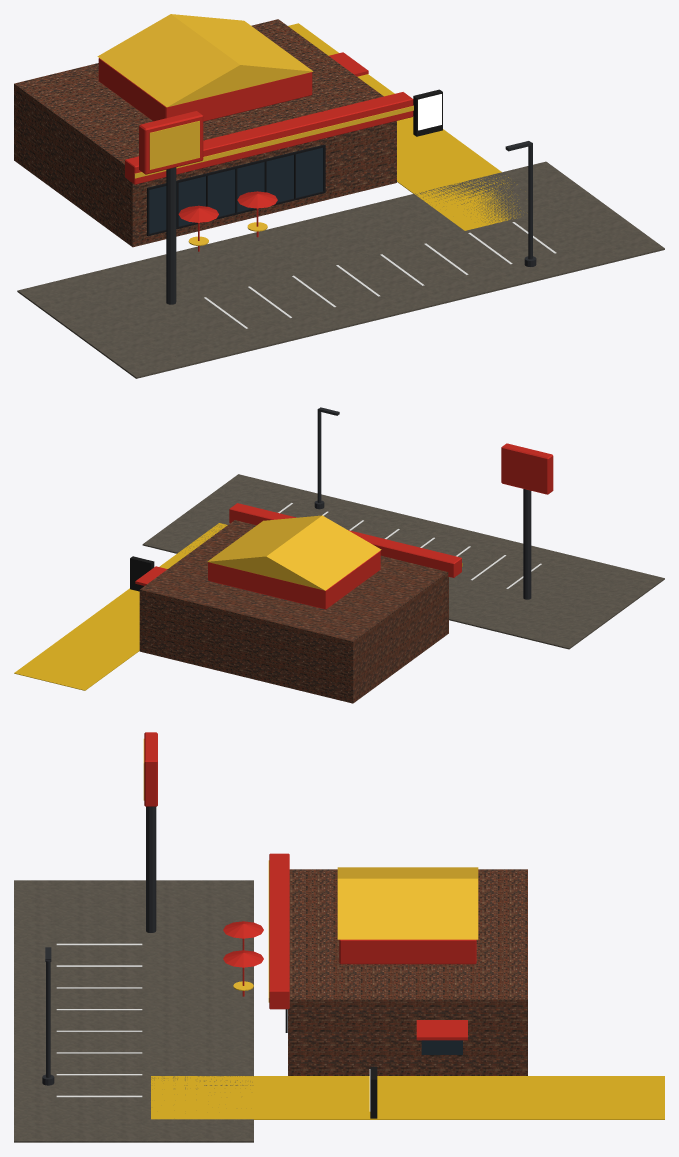
The model's file is OT_FastFood_A.glb.
3 renders of one model, top to bottom at view 1: azimuth 30°, elevation 25°; view 2: azimuth 150°, elevation 25°; view 3: azimuth 270°, elevation 25°, orthographic. The views are drawn at different scales.
Visible parts, largest first — view 1: OT_FastFood_A_Pavement, OT_FastFood_A_Brick, OT_FastFood_A_FFYellow__f6c22c, OT_FastFood_A_FFRed__d0281e, OT_FastFood_A_LaneYellow__e8b81e, OT_FastFood_A_Glass__22303a, OT_FastFood_A_Frame__18191c, OT_FastFood_A_PoleDark__2a2c30, OT_FastFood_A_PaintWhite__f0f0ee, OT_FastFood_A_PoleDark__2a2c30.001, OT_FastFood_A_InteriorWarm__ffdca8; view 2: OT_FastFood_A_Brick, OT_FastFood_A_Pavement, OT_FastFood_A_FFRed__d0281e, OT_FastFood_A_FFYellow__f6c22c, OT_FastFood_A_LaneYellow__e8b81e, OT_FastFood_A_PoleDark__2a2c30, OT_FastFood_A_PoleDark__2a2c30.001, OT_FastFood_A_MenuBoard__1a1a1a; view 3: OT_FastFood_A_Pavement, OT_FastFood_A_Brick, OT_FastFood_A_LaneYellow__e8b81e, OT_FastFood_A_FFYellow__f6c22c, OT_FastFood_A_FFRed__d0281e, OT_FastFood_A_PaintWhite__f0f0ee, OT_FastFood_A_PoleDark__2a2c30, OT_FastFood_A_PoleDark__2a2c30.001, OT_FastFood_A_Glass__22303a.
Boxes of the visible parts, x1,y1,x2,y2 form: OT_FastFood_A_Pavement: (17, 161, 664, 378); OT_FastFood_A_Brick: (14, 19, 396, 247); OT_FastFood_A_FFYellow__f6c22c: (97, 14, 413, 245); OT_FastFood_A_FFRed__d0281e: (98, 52, 413, 251); OT_FastFood_A_LaneYellow__e8b81e: (288, 23, 520, 230); OT_FastFood_A_Glass__22303a: (149, 147, 323, 233); OT_FastFood_A_Frame__18191c: (147, 144, 325, 236); OT_FastFood_A_PoleDark__2a2c30: (166, 167, 176, 304); OT_FastFood_A_PaintWhite__f0f0ee: (204, 222, 556, 328); OT_FastFood_A_PoleDark__2a2c30.001: (505, 141, 536, 266); OT_FastFood_A_InteriorWarm__ffdca8: (418, 94, 441, 130); OT_FastFood_A_Brick: (139, 520, 448, 703); OT_FastFood_A_Pavement: (142, 474, 664, 649); OT_FastFood_A_FFRed__d0281e: (135, 443, 553, 609); OT_FastFood_A_FFYellow__f6c22c: (207, 515, 462, 590); OT_FastFood_A_LaneYellow__e8b81e: (14, 523, 227, 690); OT_FastFood_A_PoleDark__2a2c30: (523, 489, 531, 599); OT_FastFood_A_PoleDark__2a2c30.001: (314, 407, 339, 509); OT_FastFood_A_MenuBoard__1a1a1a: (130, 556, 154, 591); OT_FastFood_A_Pavement: (14, 880, 253, 1142); OT_FastFood_A_Brick: (288, 869, 527, 1075); OT_FastFood_A_LaneYellow__e8b81e: (151, 1076, 664, 1119); OT_FastFood_A_FFYellow__f6c22c: (143, 739, 478, 1002); OT_FastFood_A_FFRed__d0281e: (144, 732, 476, 1040); OT_FastFood_A_PaintWhite__f0f0ee: (56, 943, 142, 1097); OT_FastFood_A_PoleDark__2a2c30: (146, 806, 156, 932); OT_FastFood_A_PoleDark__2a2c30.001: (42, 947, 54, 1085); OT_FastFood_A_Glass__22303a: (421, 1040, 462, 1054).
Size of the model in its own units: 36 by 12 by 38.
Materials: 13 (2 with a texture image).
